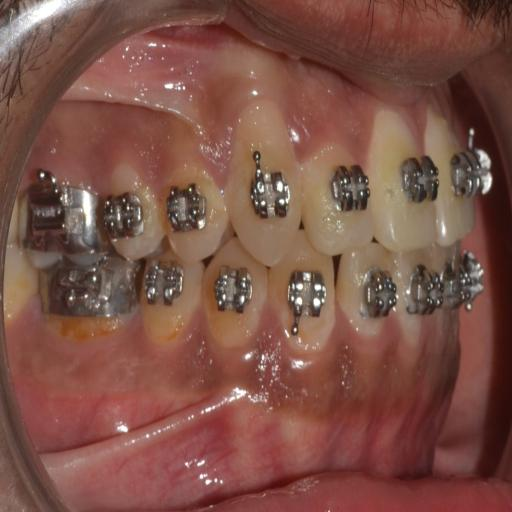correct_brace: (202, 242, 264, 356), (162, 160, 228, 259), (244, 144, 292, 232), (208, 260, 258, 333), (397, 140, 436, 232), (284, 266, 330, 334), (328, 157, 369, 233), (360, 264, 395, 338), (144, 263, 184, 320), (407, 257, 438, 326)
incorrect_brace: (299, 144, 372, 250), (336, 256, 397, 352), (165, 182, 210, 238)
